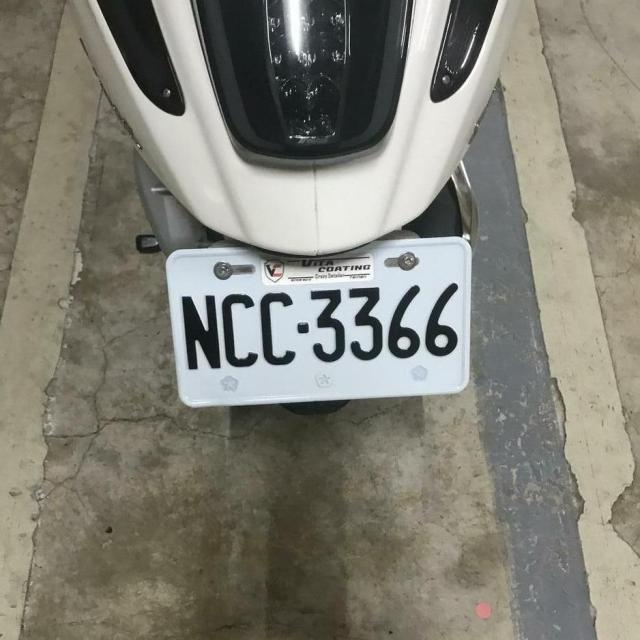W: (156, 224, 480, 418)
